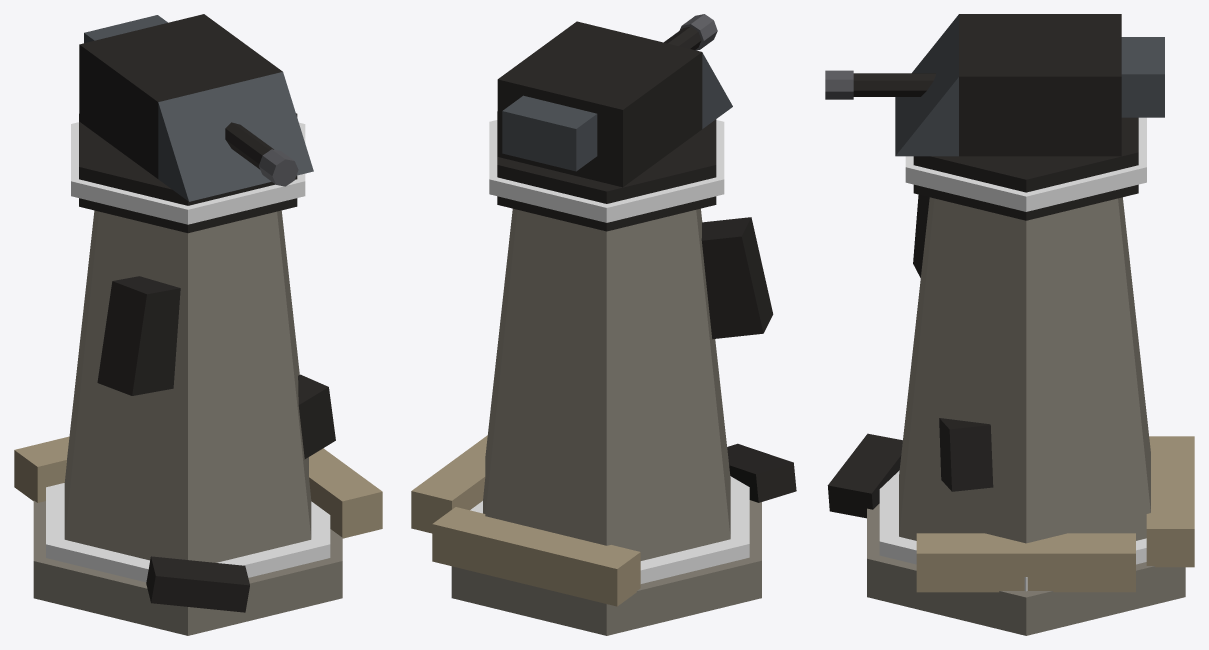
Rendered from RF_Structure_Turret_Damaged.glb.
The picture shows the model from 3 angles, left to right: view 1: azimuth 30°, elevation 25°; view 2: azimuth 150°, elevation 25°; view 3: azimuth 270°, elevation 25°; orthographic projection. The views are drawn at different scales.
Parts seen in each view (by area): view 1: RF_Structure_Turret_Damaged, Turret, TeamTrim, Muzzle; view 2: RF_Structure_Turret_Damaged, Turret, TeamTrim, Muzzle; view 3: RF_Structure_Turret_Damaged, Turret, TeamTrim, Muzzle.
Boxes of the visible parts, x1,y1,x2,y2 form: RF_Structure_Turret_Damaged: (14, 113, 382, 635); Turret: (79, 14, 313, 201); TeamTrim: (46, 122, 330, 582); Muzzle: (259, 149, 298, 186); RF_Structure_Turret_Damaged: (411, 111, 796, 635); Turret: (497, 21, 732, 187); TeamTrim: (470, 120, 749, 583); Muzzle: (679, 14, 717, 50); RF_Structure_Turret_Damaged: (827, 117, 1194, 635); Turret: (853, 14, 1164, 156); TeamTrim: (879, 117, 1146, 591); Muzzle: (825, 70, 853, 99).
Bounding box in the file's own units: 2.6 × 4 × 2.61.
